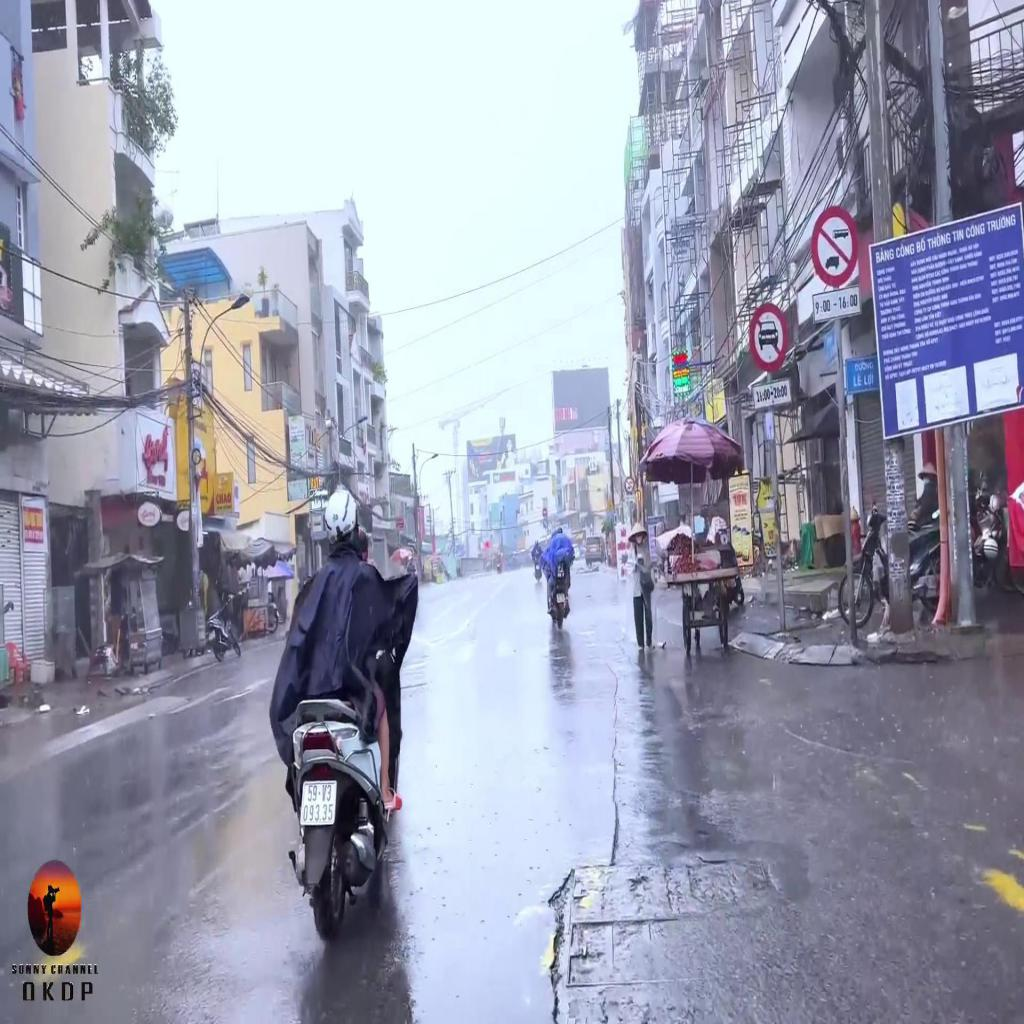cam_o_to: (748, 302, 788, 372)
cam_o_to_tai_va_xe_khach: (811, 205, 857, 286), (625, 476, 635, 493)
cam_xe_di_nguoc_chieu: (542, 508, 548, 517)
huong_phai_di_vuot_chuong_ngai_vat_phai: (543, 518, 548, 529)
khac: (813, 286, 860, 322), (751, 379, 791, 410)
